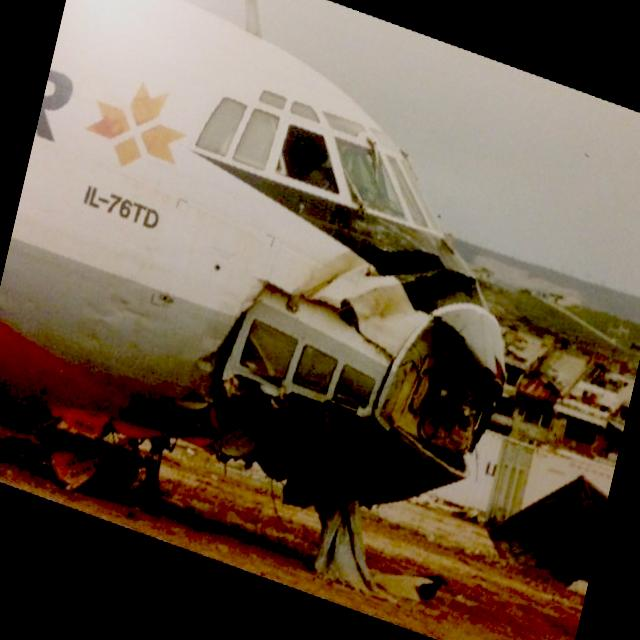dent: (175, 346, 225, 420)
